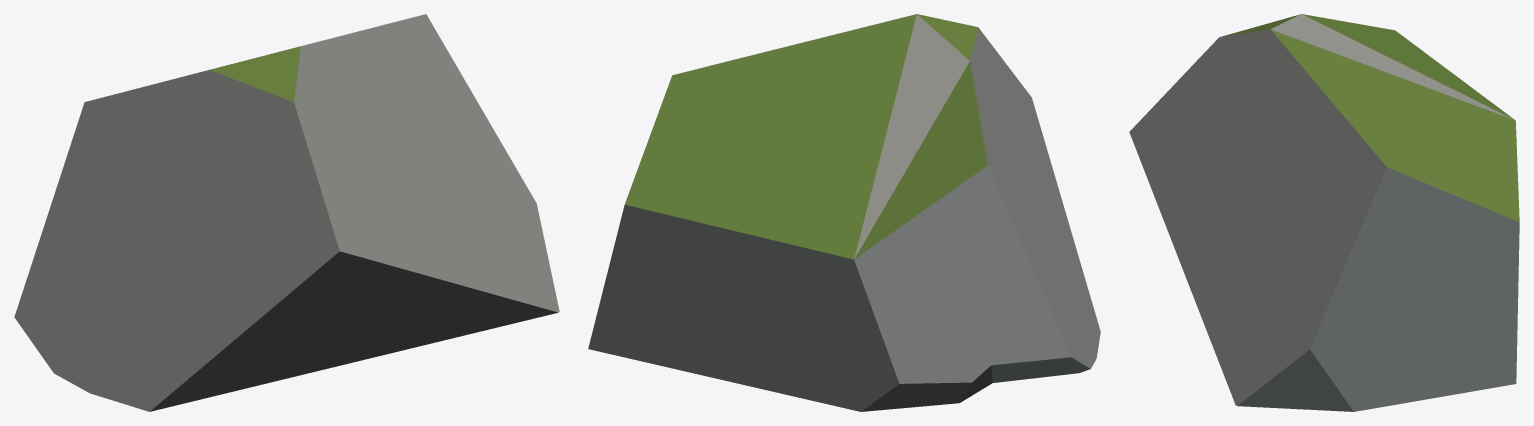
File: wild_pz_rock_27.glb
The picture shows the model from 3 angles, left to right: view 1: azimuth 30°, elevation 25°; view 2: azimuth 150°, elevation 25°; view 3: azimuth 270°, elevation 25°; orthographic projection. The views are drawn at different scales.
Parts seen in each view (by area): view 1: pg_rock6_27; view 2: pg_rock6_27; view 3: pg_rock6_27.
Part boxes in pixels (bbox=[...]): pg_rock6_27: bbox=[14, 14, 559, 411]; pg_rock6_27: bbox=[588, 14, 1100, 411]; pg_rock6_27: bbox=[1129, 14, 1519, 411].
Bounding box in the file's own units: 2.07 × 1.26 × 1.63.
